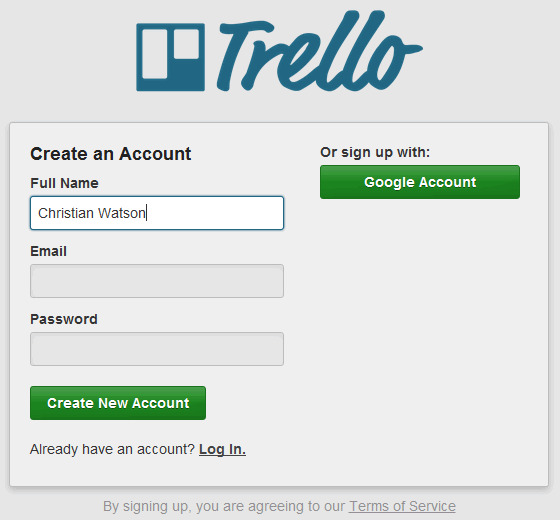_form_: (1, 86, 416, 502), (289, 79, 560, 240)
button: (319, 164, 522, 200), (30, 385, 208, 421)
field: (28, 194, 286, 231), (27, 263, 285, 300), (28, 330, 285, 366)
